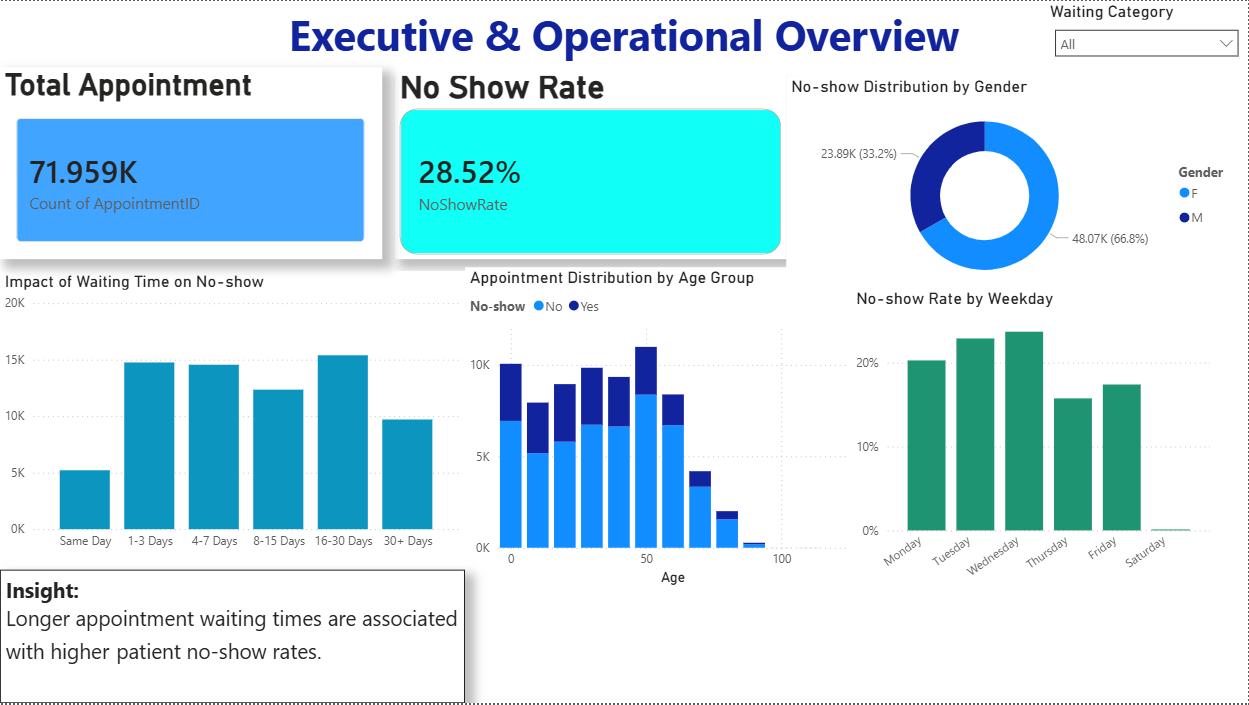

Layout of this report page (visuals, bound fields, positions):
{"tool":"powerbi","page":{"name":"Page 1","canvas":[1280,720],"ordinal":0},"visuals":[{"type":"cardVisual","title":"No Show Rate","fields":{"Data":["Appointments.NoShowRate"]},"box":[405.5,68.4,400.6,196.5],"z":0},{"type":"clusteredColumnChart","title":"Impact of Waiting Time on No-show","fields":{"Y":["CountNonNull(Appointments.No-show)"],"Category":["Appointments.WaitingCategoryDisplay"]},"box":[0,276.7,476.7,295],"z":1000},{"type":"textbox","box":[115,0,1165,76.2],"z":2000},{"type":"donutChart","title":"No-show Distribution by Gender","fields":{"Category":["Appointments.Gender"],"Y":["CountNonNull(Appointments.No-show)"]},"box":[806.7,68.3,473.3,226.7],"z":3000},{"type":"clusteredColumnChart","title":"No-show Rate by Weekday","fields":{"Category":["Appointments.AppointmentWeekday"],"Y":["CountNonNull(Appointments.No-show)"]},"box":[907.1,278.6,372.9,318.6],"z":4000},{"type":"cardVisual","title":"Total Appointment","fields":{"Data":["CountNonNull(Appointments.AppointmentID)"]},"box":[0,68.3,391.7,196.7],"z":5000},{"type":"columnChart","title":"Appointment Distribution by Age Group","fields":{"Category":["Appointments.Age (bins)"],"Y":["CountNonNull(Appointments.No-show)"],"Series":["Appointments.No-show"]},"box":[477.1,272.9,397.1,331.4],"z":6000},{"type":"textbox","box":[0,583.3,476.7,136.7],"z":7000},{"type":"slicer","title":"Waiting Category","fields":{"Values":["Appointments.WaitingCategory"]},"box":[1071.7,53.3,208.3,90],"z":8000}]}

Visuals, with their boxes in screenshot pixels (x1, y1, x2, y2), scaled from the page's 1280x720 canvas onto the 1249x705 screenshot:
"No Show Rate" cardVisual: (x1=396, y1=67, x2=787, y2=259)
"Impact of Waiting Time on No-show" clusteredColumnChart: (x1=0, y1=271, x2=465, y2=560)
textbox: (x1=112, y1=0, x2=1248, y2=75)
"No-show Distribution by Gender" donutChart: (x1=787, y1=67, x2=1248, y2=289)
"No-show Rate by Weekday" clusteredColumnChart: (x1=885, y1=273, x2=1248, y2=585)
"Total Appointment" cardVisual: (x1=0, y1=67, x2=382, y2=259)
"Appointment Distribution by Age Group" columnChart: (x1=466, y1=267, x2=853, y2=592)
textbox: (x1=0, y1=571, x2=465, y2=704)
"Waiting Category" slicer: (x1=1046, y1=52, x2=1248, y2=140)
